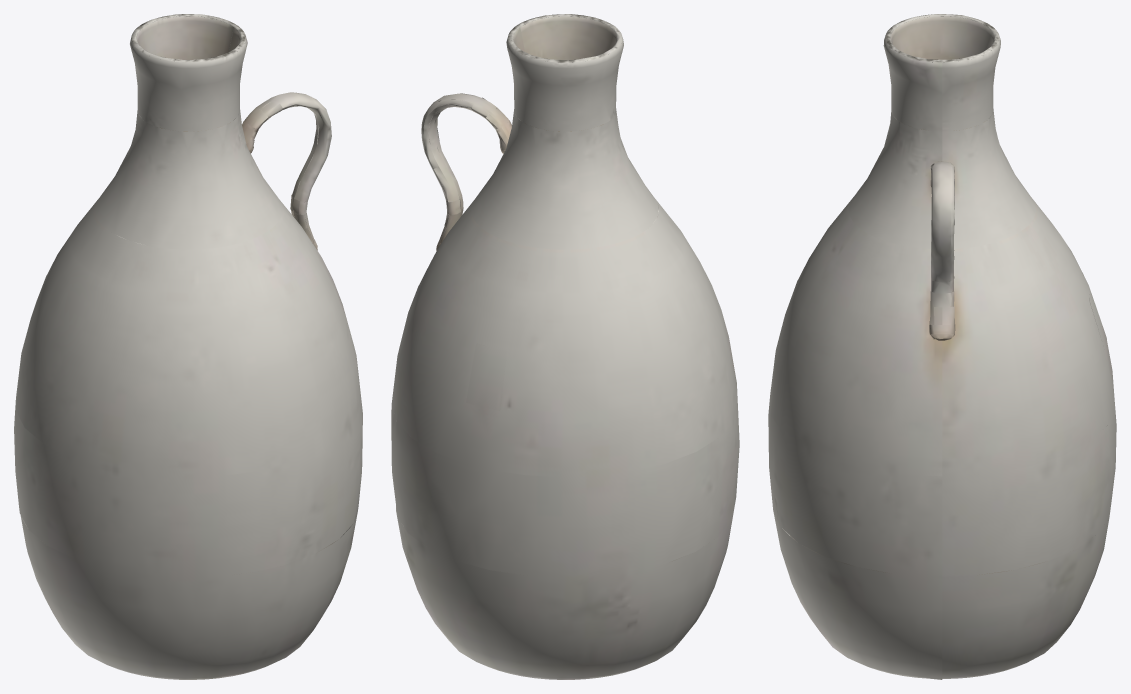
3 renders of one model, left to right at view 1: azimuth 30°, elevation 25°; view 2: azimuth 150°, elevation 25°; view 3: azimuth 270°, elevation 25°, orthographic.
Visible parts, largest first — view 1: ceramic_vase_04; view 2: ceramic_vase_04; view 3: ceramic_vase_04.
Boxes of the visible parts, x1,y1,x2,y2 form: ceramic_vase_04: (14, 14, 362, 679); ceramic_vase_04: (391, 14, 739, 679); ceramic_vase_04: (768, 14, 1116, 679).
Size of the model in its own units: 0.1812 by 0.3419 by 0.181.
1 material, 1 textured.
